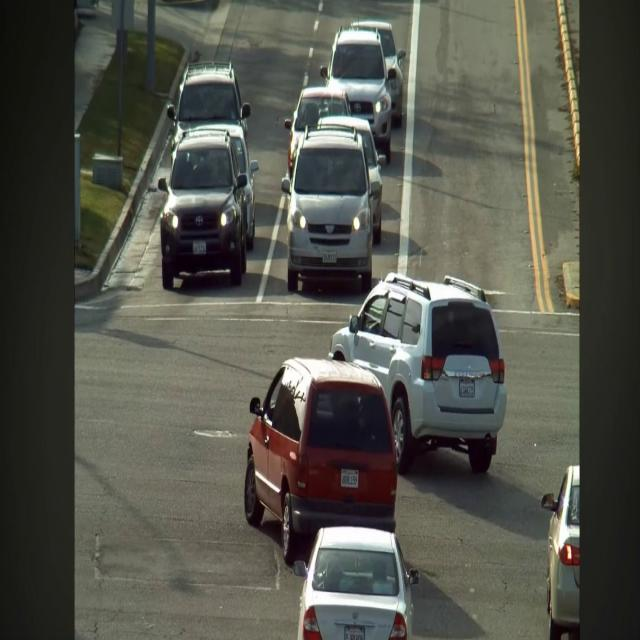car: (328, 272, 506, 474), (244, 358, 397, 564), (281, 127, 372, 291), (158, 128, 247, 289), (294, 527, 419, 639), (320, 28, 396, 163), (319, 116, 385, 244), (167, 61, 250, 147), (541, 465, 579, 639), (208, 124, 258, 250), (284, 87, 350, 175), (351, 20, 405, 126), (74, 0, 79, 40)
